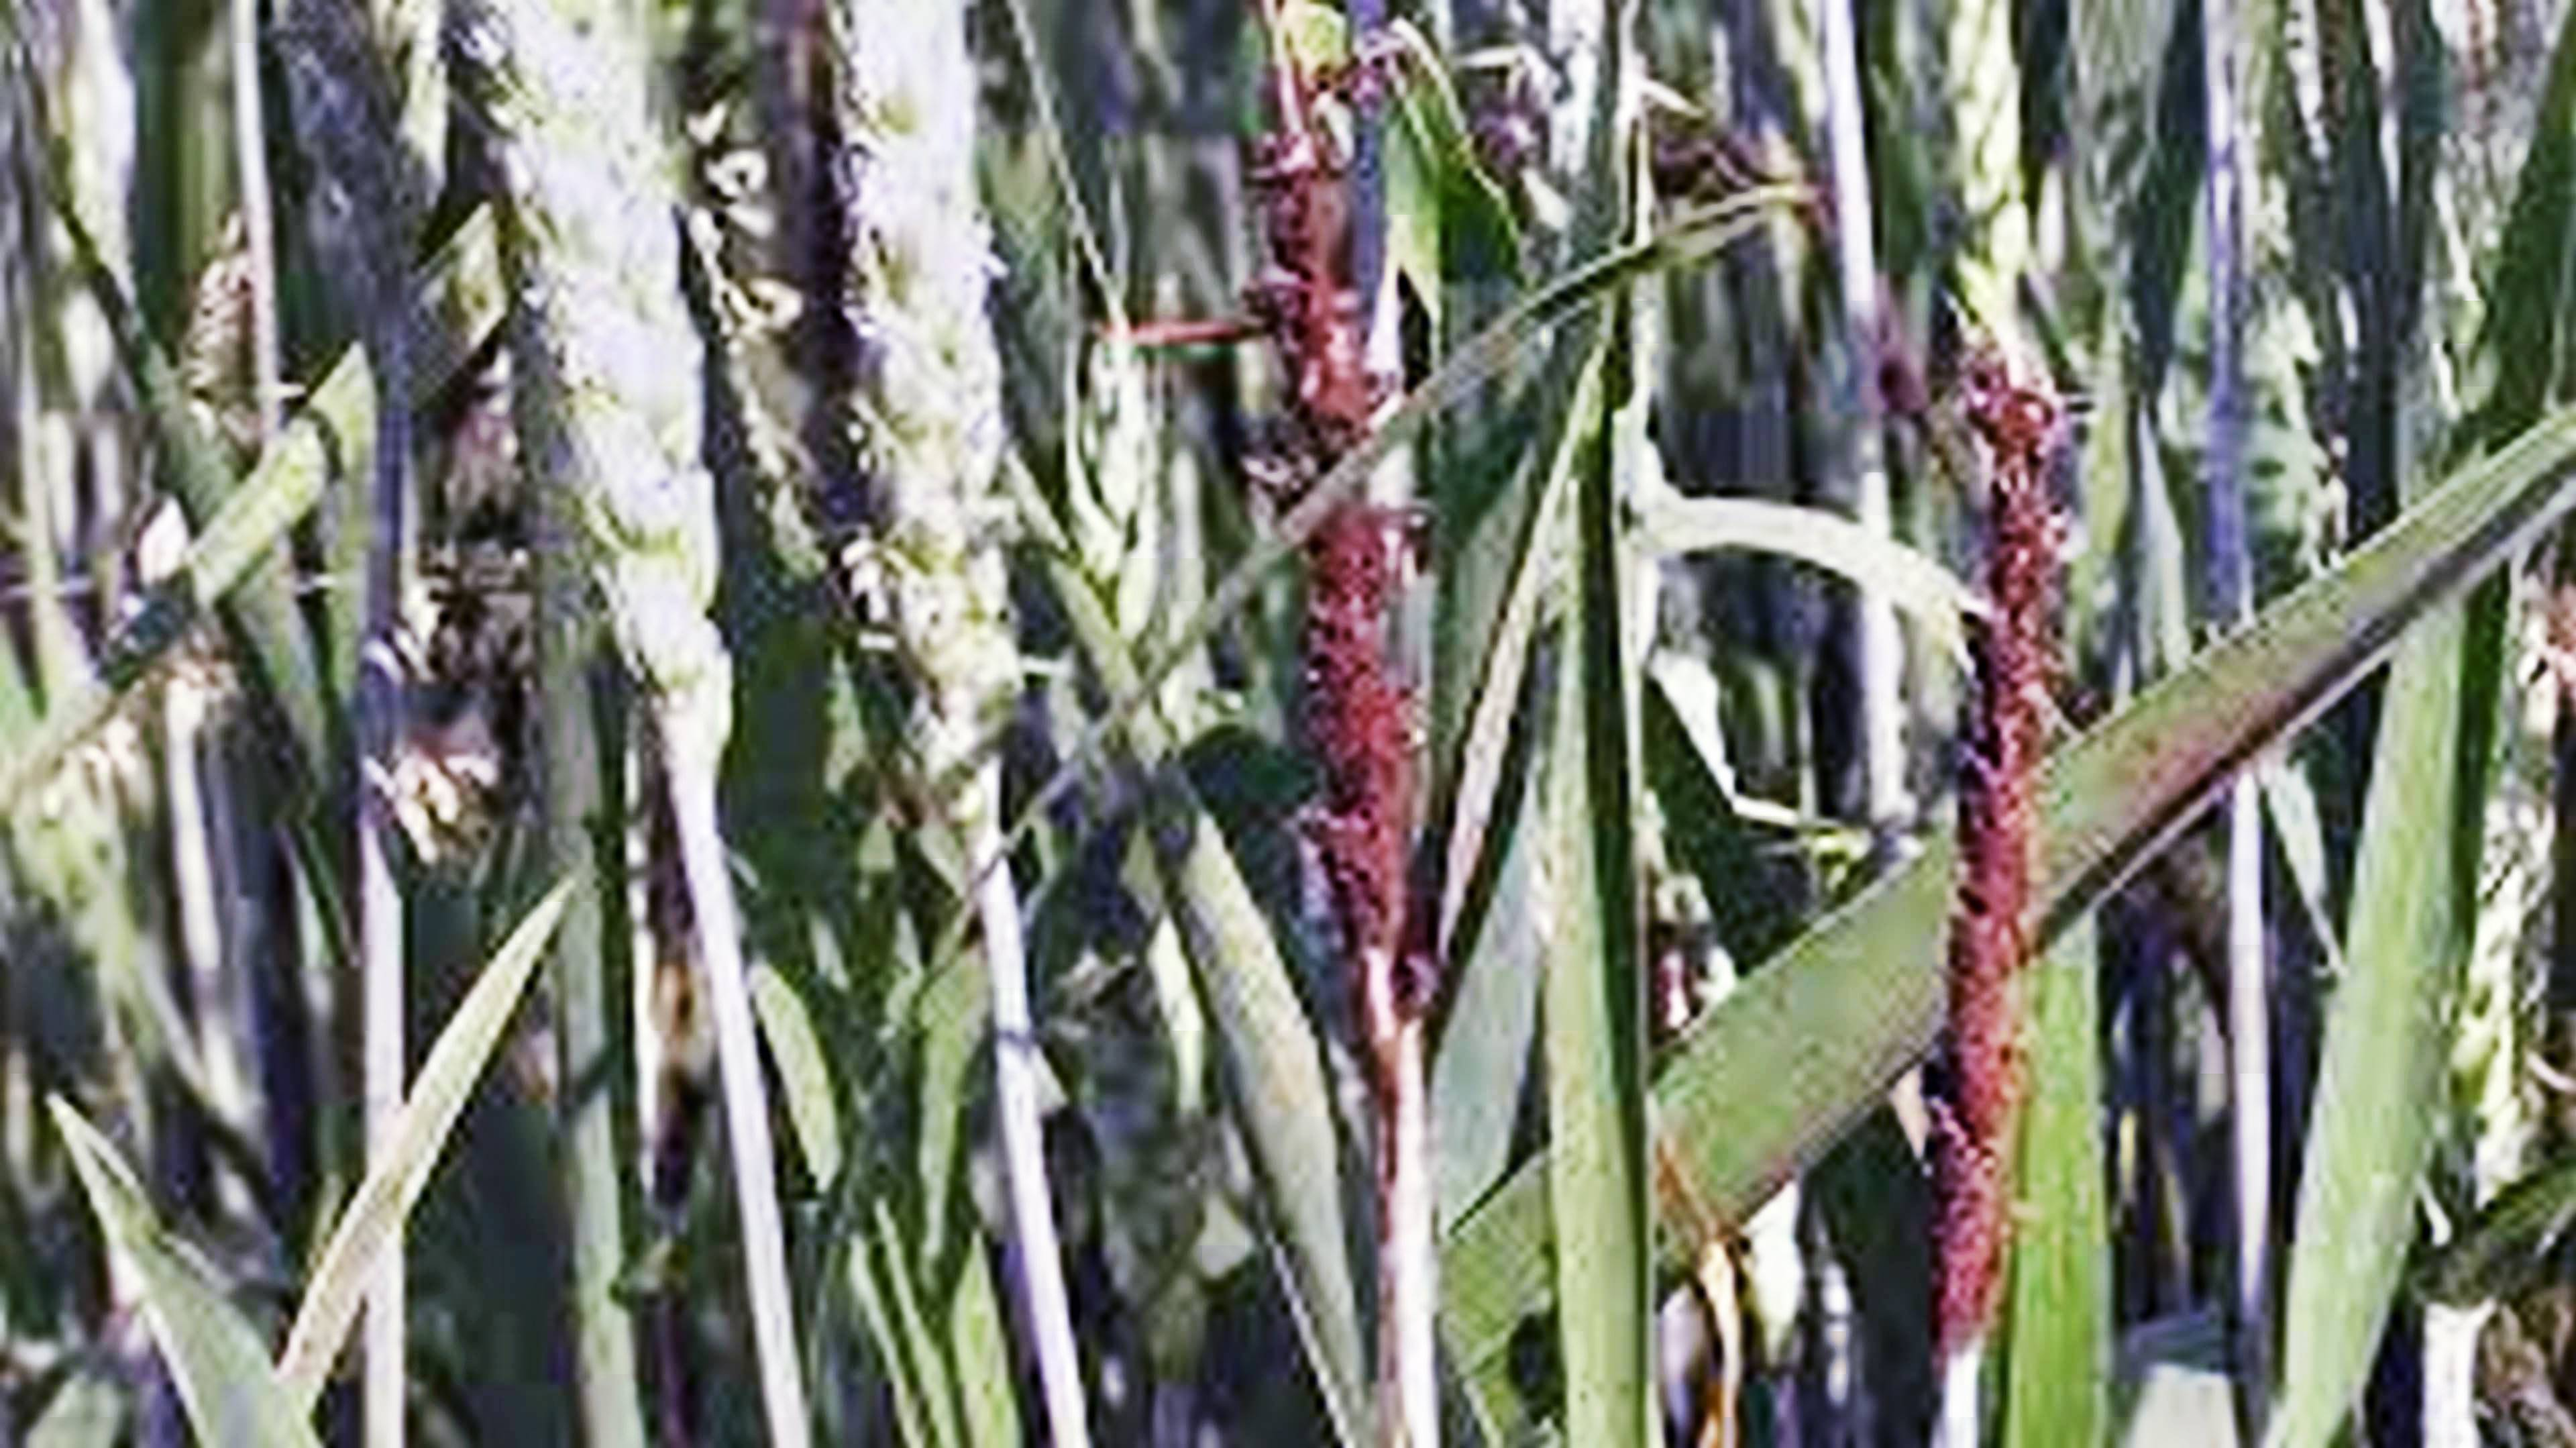Wheat Loose Smut: (1223, 117, 1472, 956), (1868, 372, 2061, 1340)
